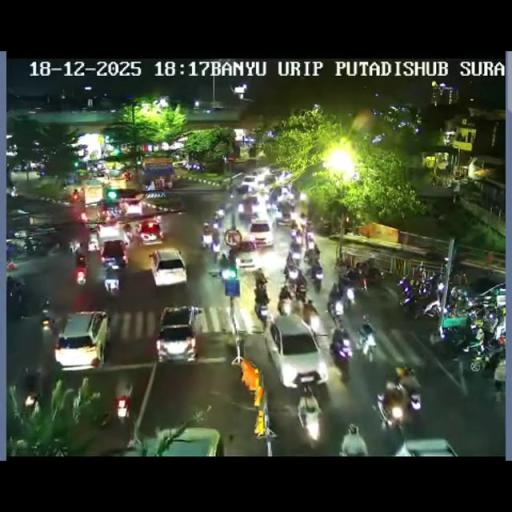Car: (204, 168, 302, 266), (264, 314, 326, 388), (54, 310, 110, 370), (156, 304, 202, 362), (140, 426, 222, 456), (149, 248, 186, 286), (395, 437, 457, 457), (142, 192, 186, 217), (100, 240, 128, 270), (114, 380, 134, 422), (247, 218, 274, 247), (138, 220, 163, 245), (238, 196, 258, 221), (239, 175, 259, 193), (87, 231, 100, 251)
Motorcycle: (327, 256, 389, 374), (278, 214, 326, 318), (378, 369, 422, 426), (398, 275, 442, 319), (428, 318, 470, 361), (466, 332, 504, 375), (462, 295, 506, 332), (298, 395, 322, 442), (442, 288, 470, 319), (332, 342, 352, 381), (358, 326, 378, 362), (18, 388, 39, 418), (24, 235, 50, 256), (103, 264, 121, 294), (306, 262, 324, 290), (40, 303, 56, 333), (326, 294, 344, 319), (304, 307, 322, 332), (6, 275, 24, 300), (342, 282, 357, 308), (254, 299, 268, 326), (215, 201, 232, 223), (284, 255, 298, 280), (303, 246, 320, 266), (294, 282, 308, 306), (226, 242, 240, 266), (411, 263, 425, 286), (218, 252, 230, 278), (201, 222, 213, 248), (275, 208, 292, 226), (289, 236, 302, 259), (254, 267, 267, 290), (277, 295, 291, 315), (318, 218, 333, 236), (6, 248, 18, 270), (451, 270, 467, 286), (395, 364, 413, 378), (357, 272, 369, 292), (68, 238, 81, 254), (76, 265, 86, 285), (121, 226, 131, 246), (293, 216, 304, 234), (108, 204, 122, 218), (210, 235, 220, 254), (98, 208, 110, 222), (306, 230, 316, 246), (211, 218, 221, 230)
